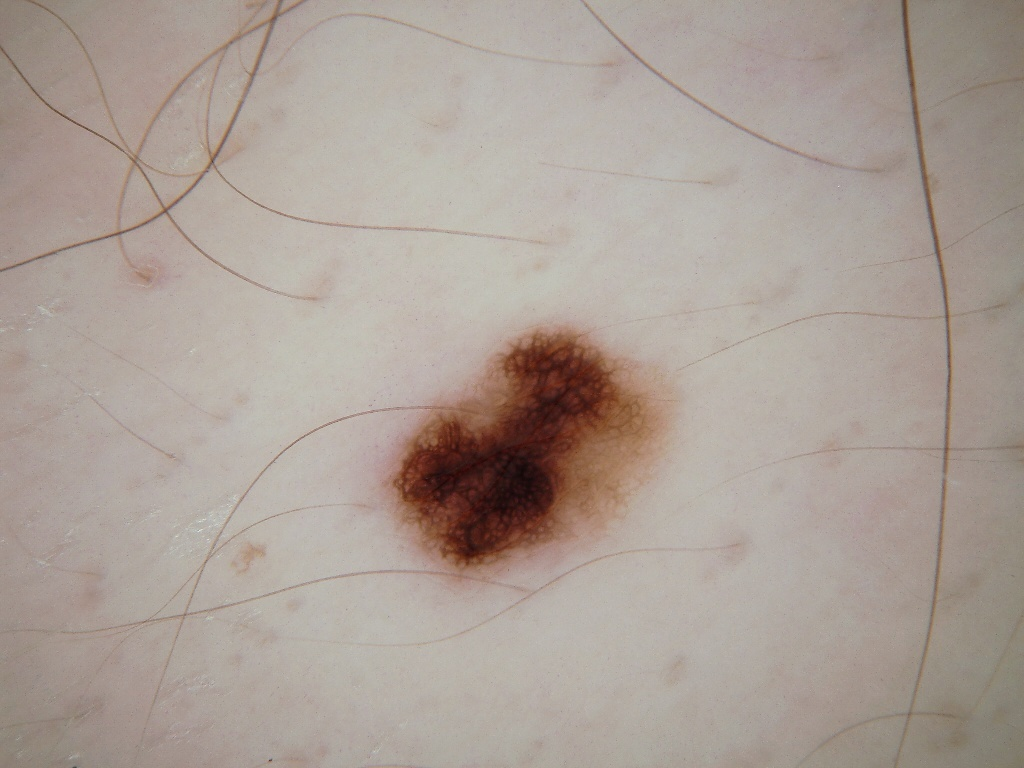Detected Lesion: (385, 317, 677, 587)
